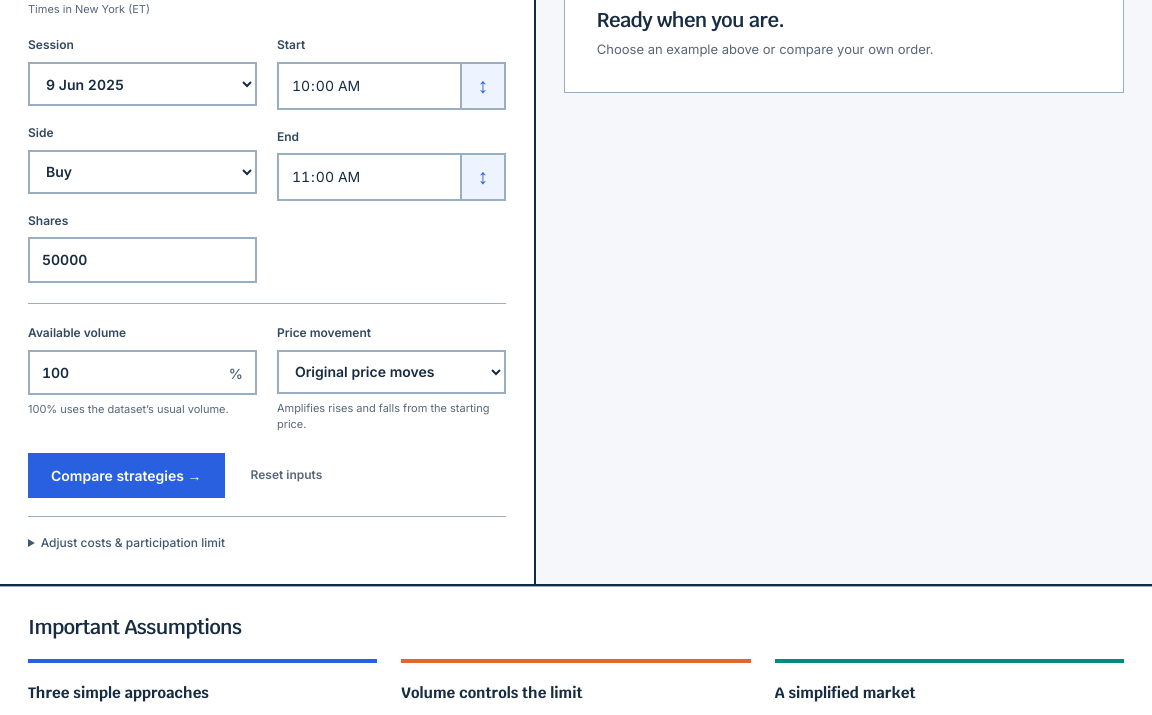
Scenario: converts volume percent into the multiplier used by the simulation
(page scrolled)
Expected: the button "Compare strategies →" is enabled, [28,452,224,498]
Replace the text in the number field labelled "Available volume % 100% uses the dataset’s usual volume." with "45": (142, 372) [28,350,257,395]
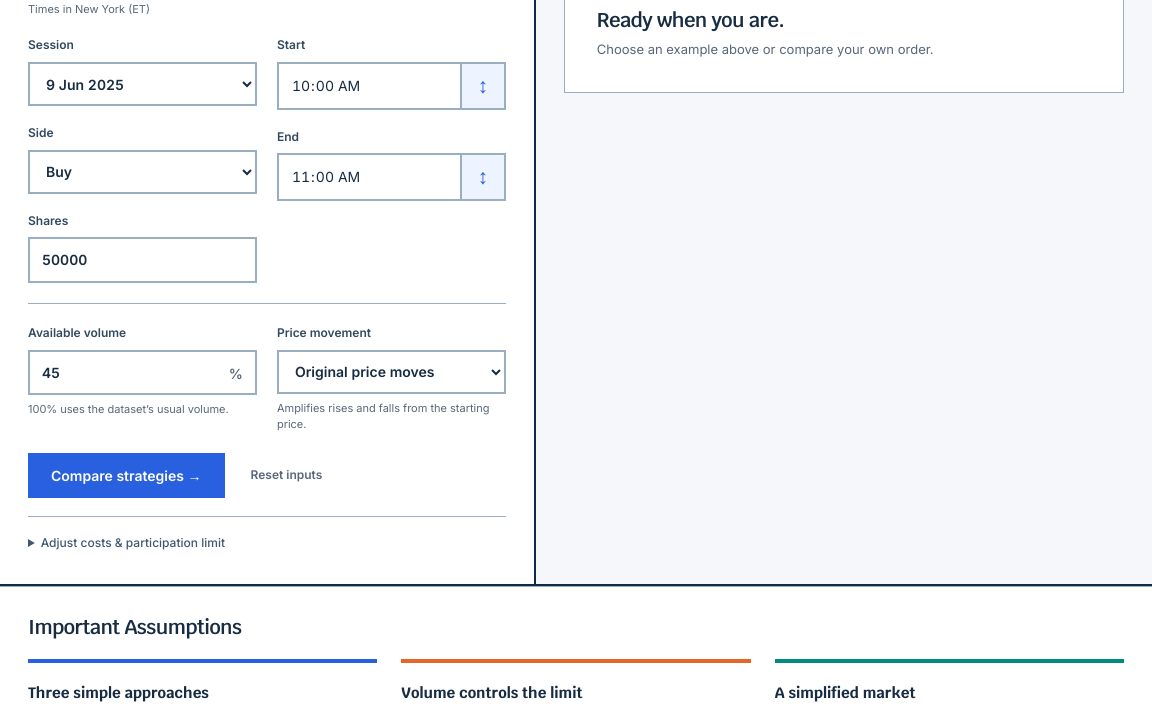
Click the button "Compare strategies →": (126, 475) [28,452,224,498]
(page scrolled)
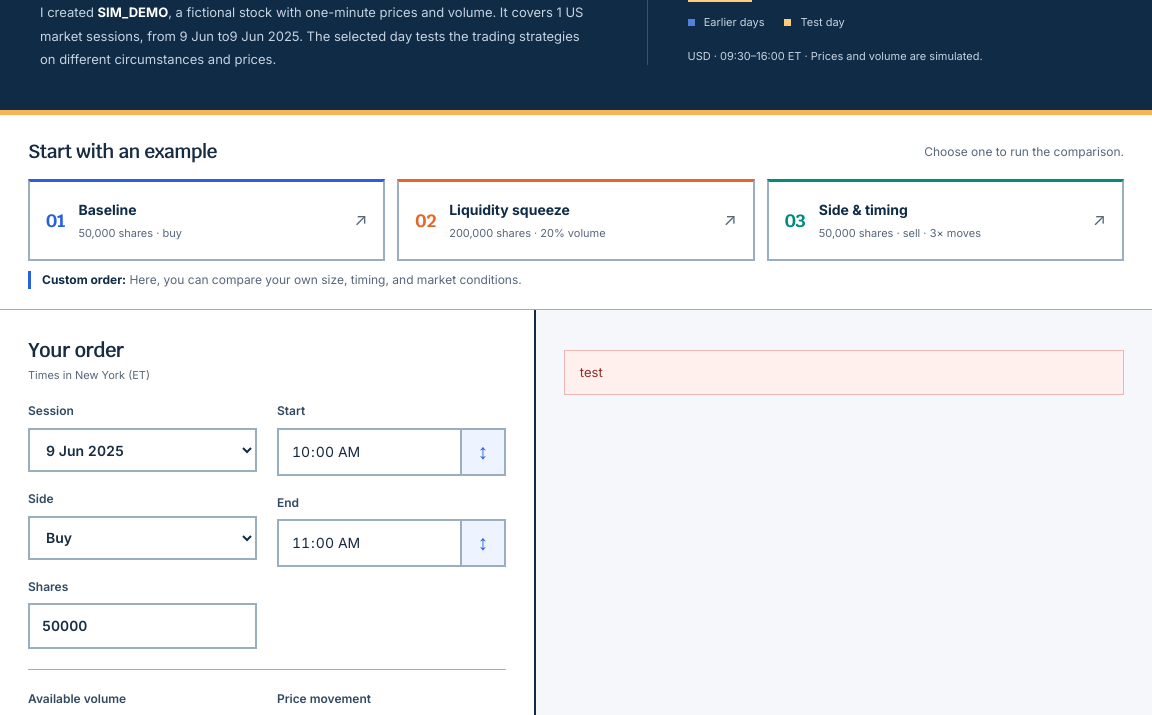
Now the message "test" is shown, box [564,350,1124,394]
